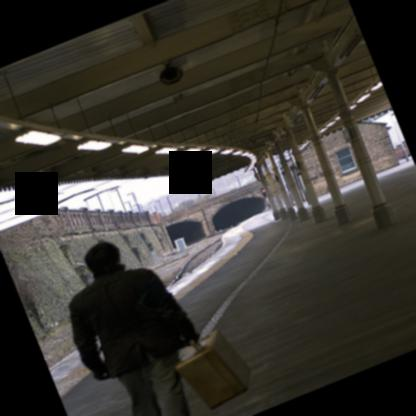suitcase: (174, 329, 252, 411)
